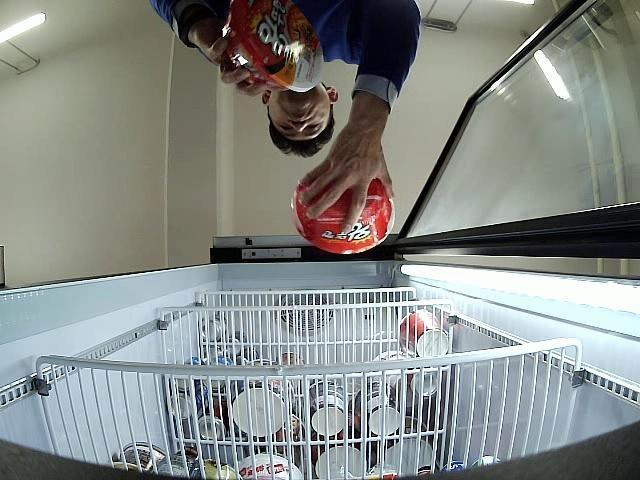10_wangTtukkeong: (223, 0, 324, 93), (292, 177, 394, 254)
